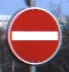No entry: (6, 7, 63, 66)
